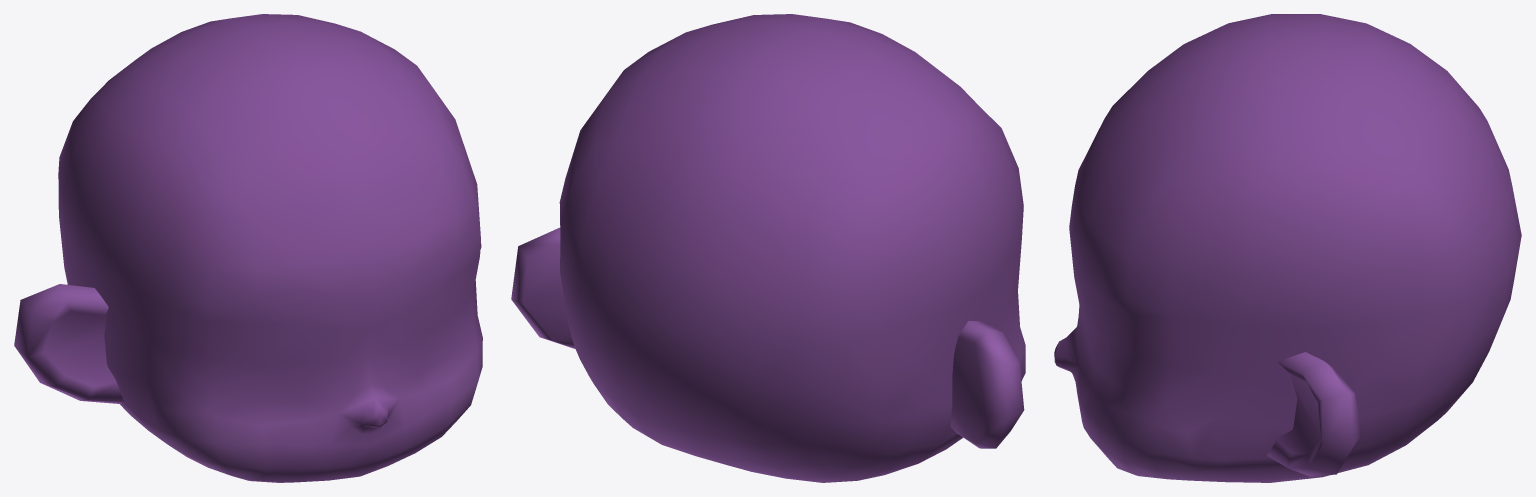
File: Body_Purple_Head_1.fbx
The picture shows the model from 3 angles, left to right: view 1: azimuth 30°, elevation 25°; view 2: azimuth 150°, elevation 25°; view 3: azimuth 270°, elevation 25°; orthographic projection. The views are drawn at different scales.
Visible parts, largest first — view 1: Body_Purple_Head_1; view 2: Body_Purple_Head_1; view 3: Body_Purple_Head_1.
Boxes of the visible parts, x1,y1,x2,y2 form: Body_Purple_Head_1: (14, 14, 482, 482); Body_Purple_Head_1: (511, 14, 1025, 482); Body_Purple_Head_1: (1054, 14, 1521, 482).
Size of the model in its own units: 64.19 by 52.19 by 53.9.
